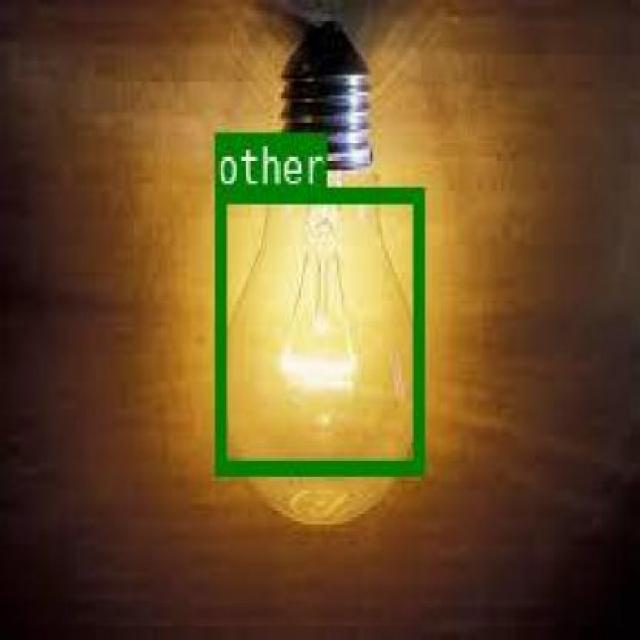other: (214, 186, 422, 471)
